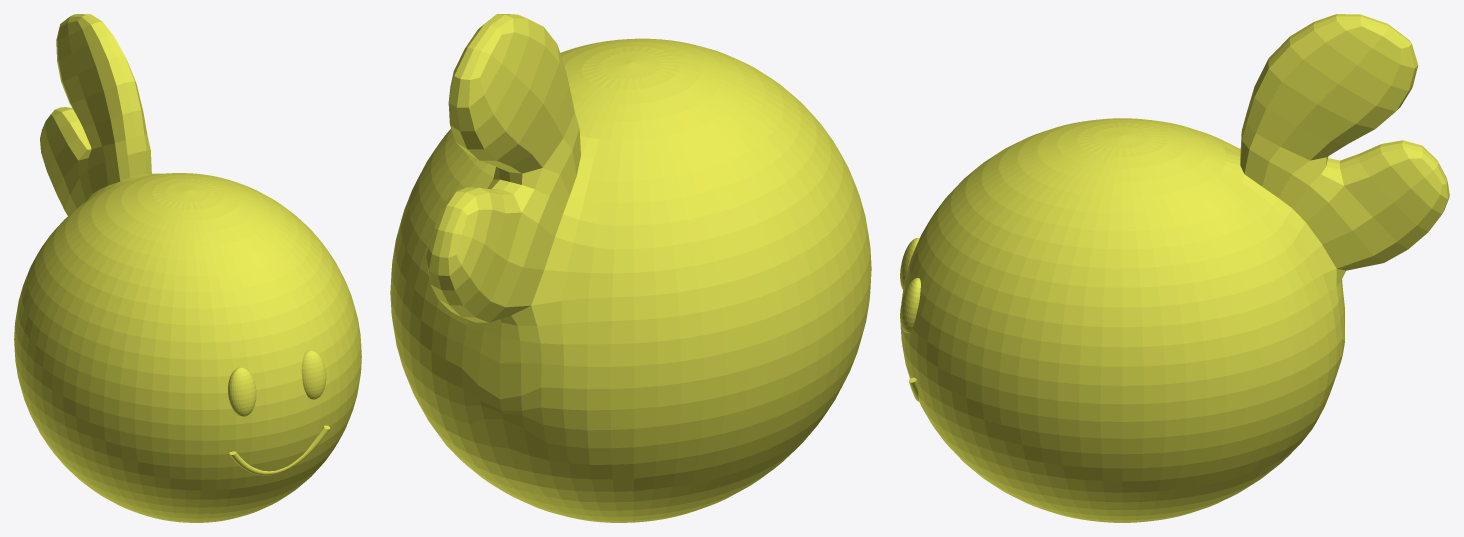
Rendered from wkwk_gold-processed.gltf.
The picture shows the model from 3 angles, left to right: view 1: azimuth 30°, elevation 25°; view 2: azimuth 150°, elevation 25°; view 3: azimuth 270°, elevation 25°; orthographic projection. The views are drawn at different scales.
Parts seen in each view (by area): view 1: 球, 球.001, NURBSカーブ; view 2: 球; view 3: 球, 球.001.
Part boxes in pixels (x1,y1,x2,y2): 球: (14,14,361,522); 球.001: (228,350,326,416); NURBSカーブ: (229,425,330,475); 球: (390,14,871,522); 球: (900,14,1449,522); 球.001: (900,238,920,333).
Bounding box in the file's own units: 2.67 × 3.64 × 3.7.
